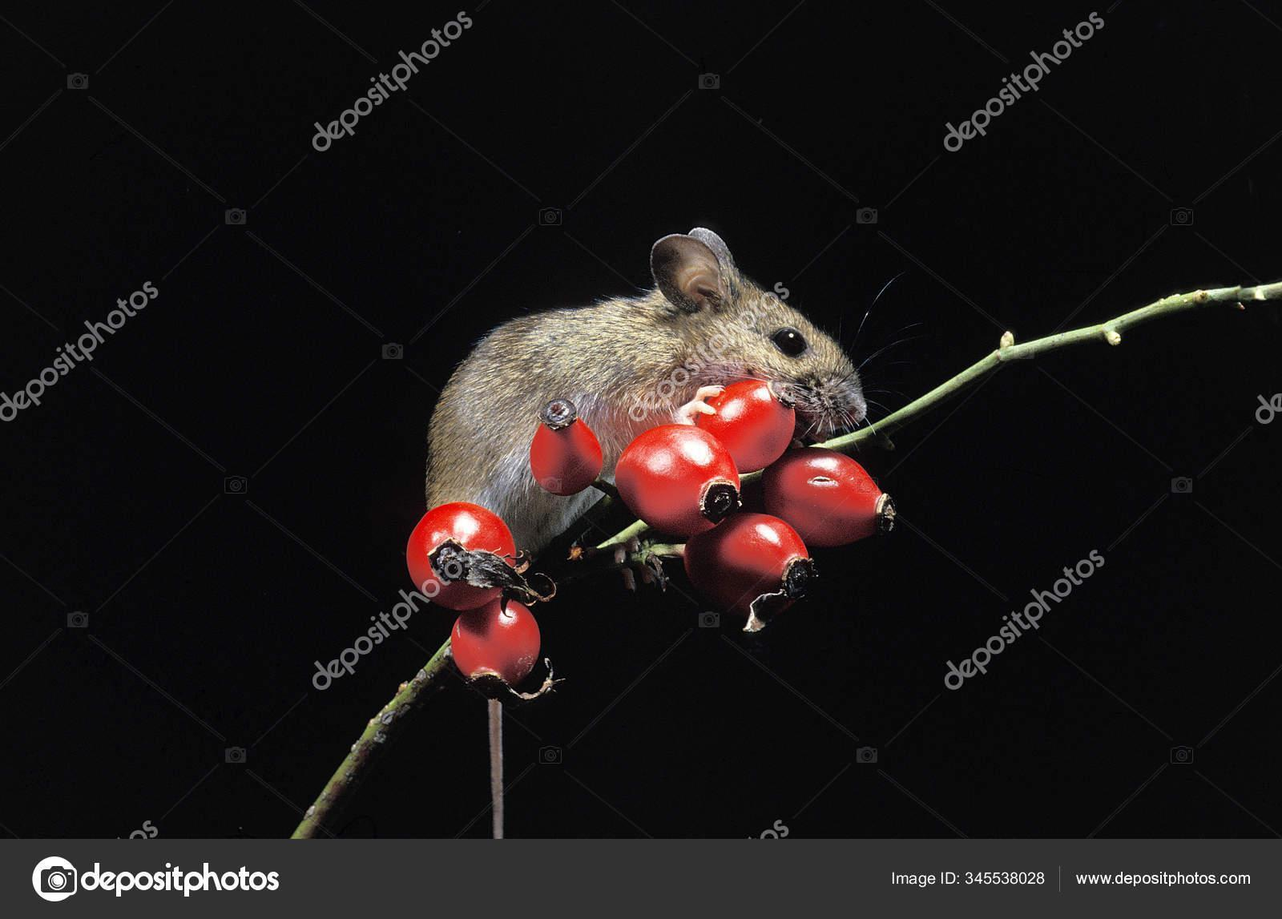rat: (429, 224, 868, 569)
